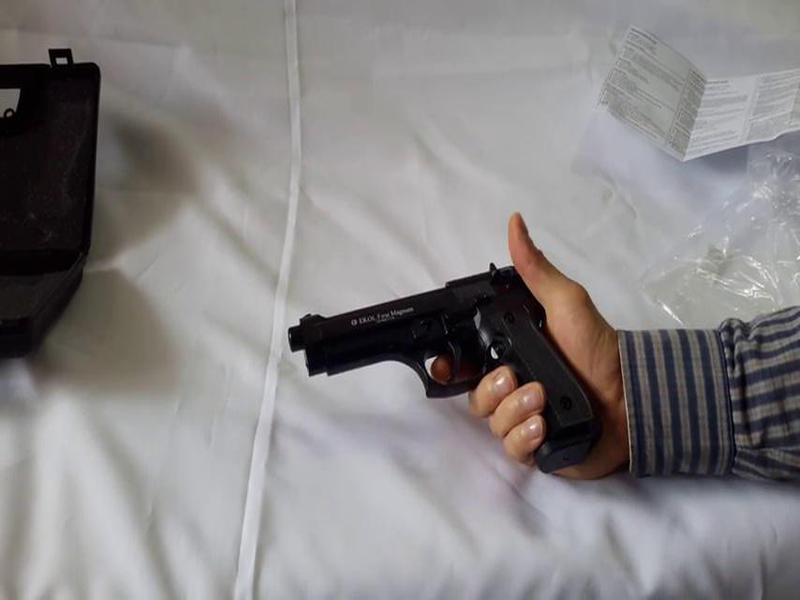Pistola: (267, 245, 575, 477)
